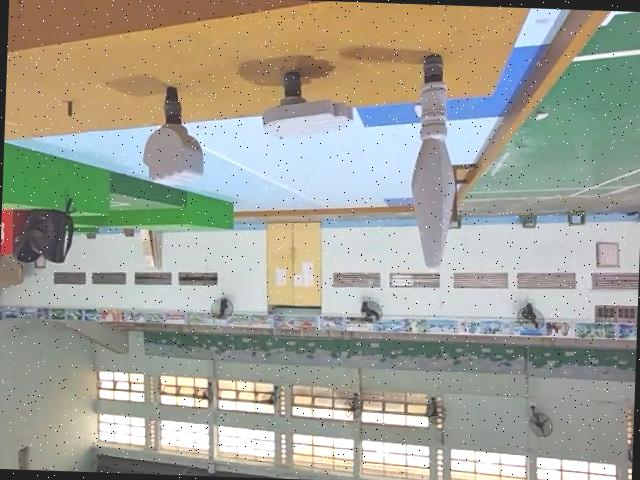Fist: (138, 85, 204, 187)
Hand: (259, 67, 363, 144)
Sph: (404, 43, 462, 269)
